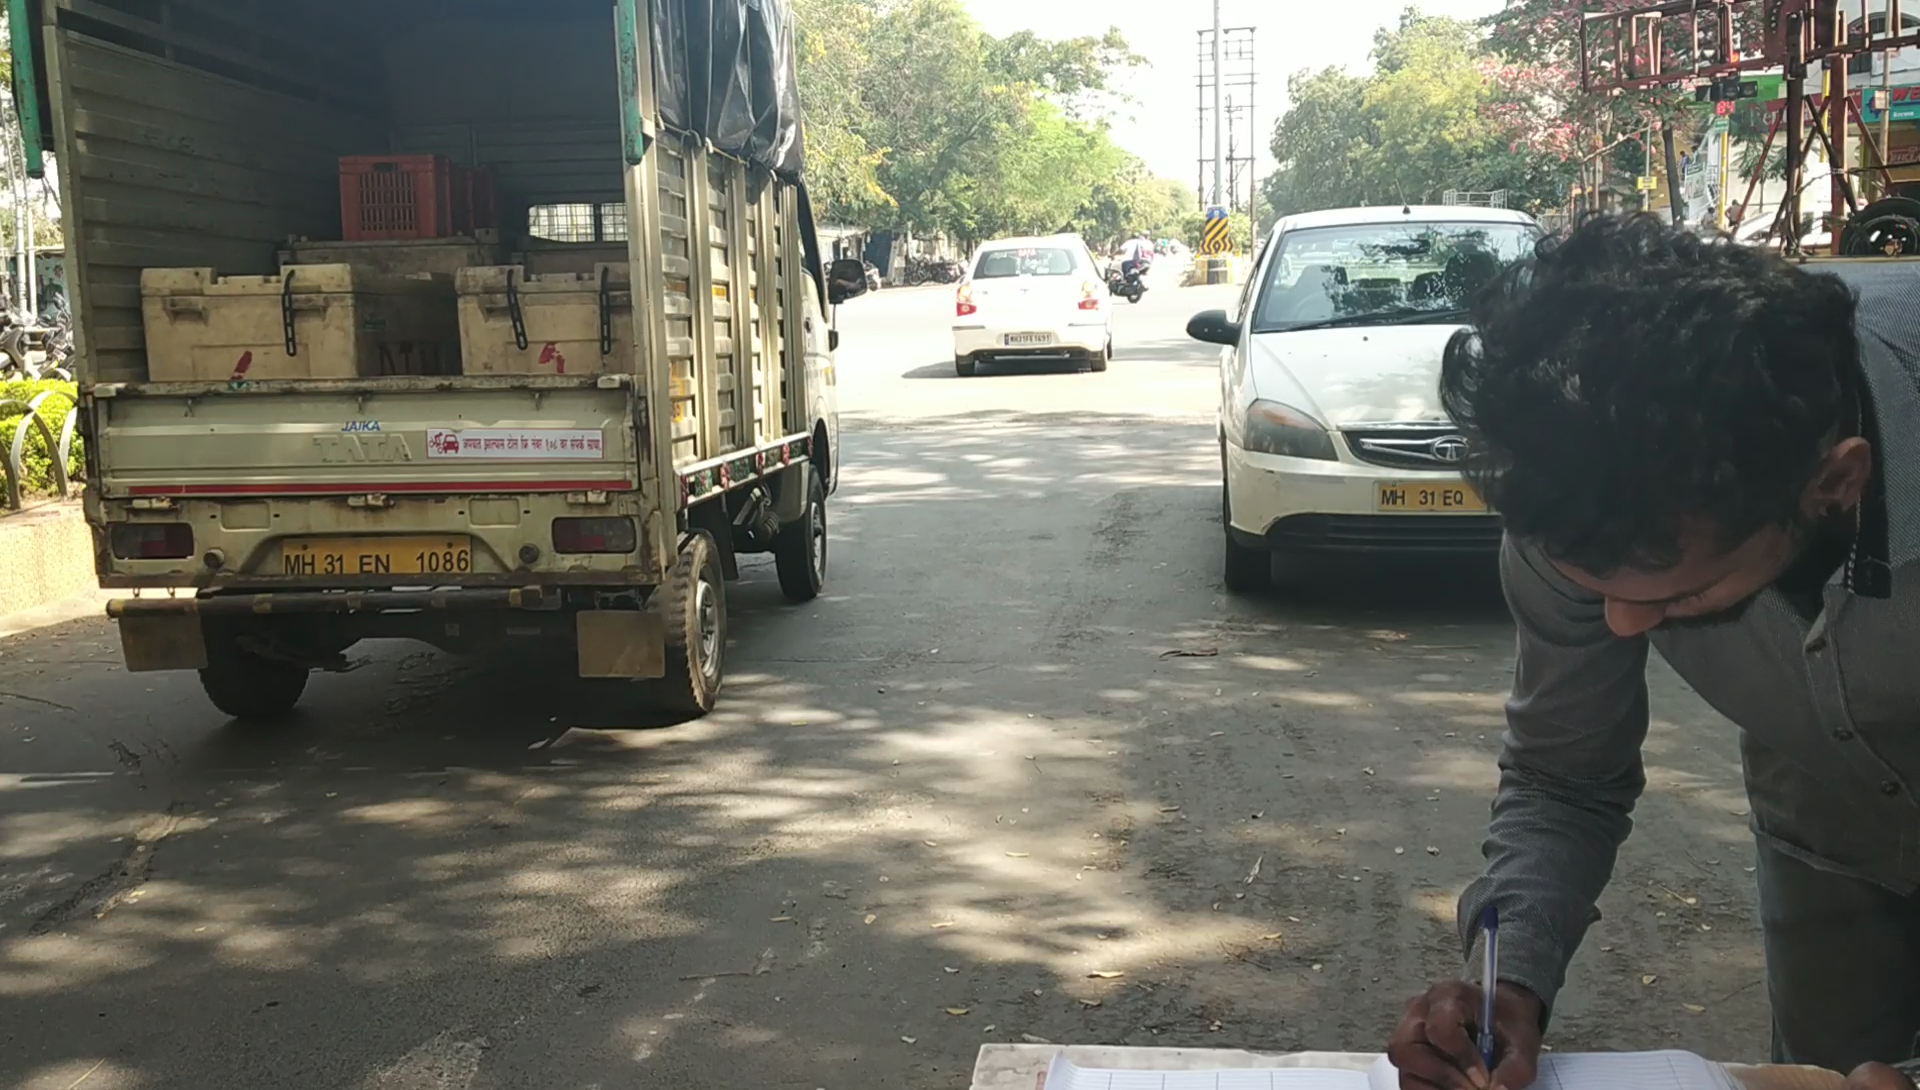car: (1, 1, 870, 735)
numplate: (277, 530, 482, 588)
